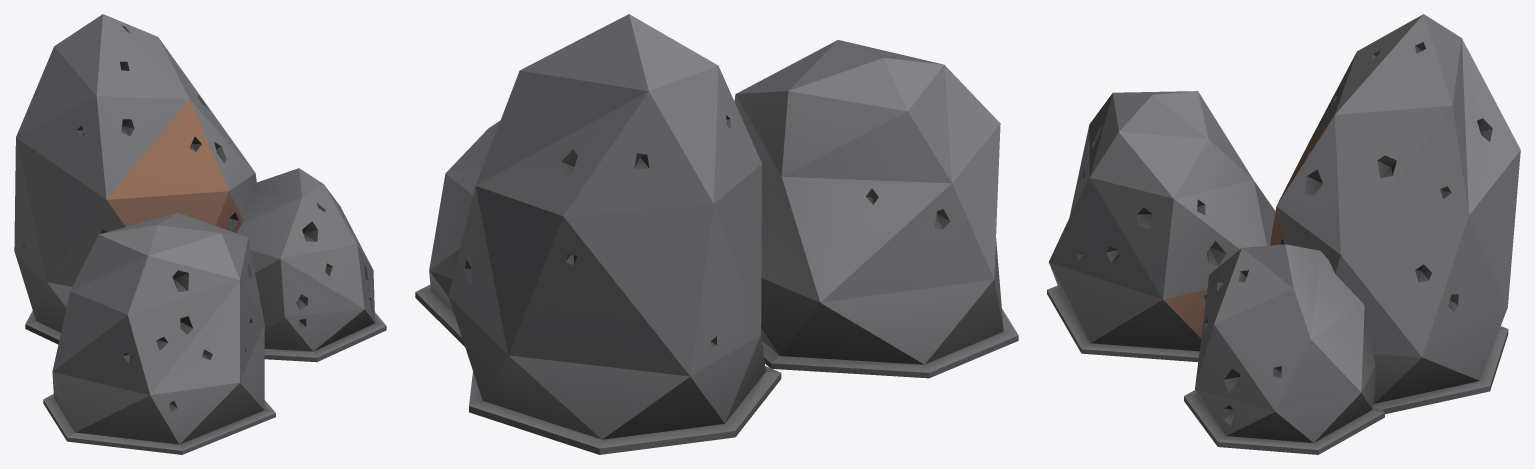
The model's file is volcanic.glb.
The picture shows the model from 3 angles, left to right: view 1: azimuth 30°, elevation 25°; view 2: azimuth 150°, elevation 25°; view 3: azimuth 270°, elevation 25°; orthographic projection. The views are drawn at different scales.
Visible parts, largest first — view 1: volcanic; view 2: volcanic; view 3: volcanic.
Boxes of the visible parts, x1,y1,x2,y2 form: volcanic: [14, 14, 386, 454]; volcanic: [415, 14, 1018, 454]; volcanic: [1047, 14, 1520, 454].
Size of the model in its own units: 3.3 by 2.53 by 3.3.
